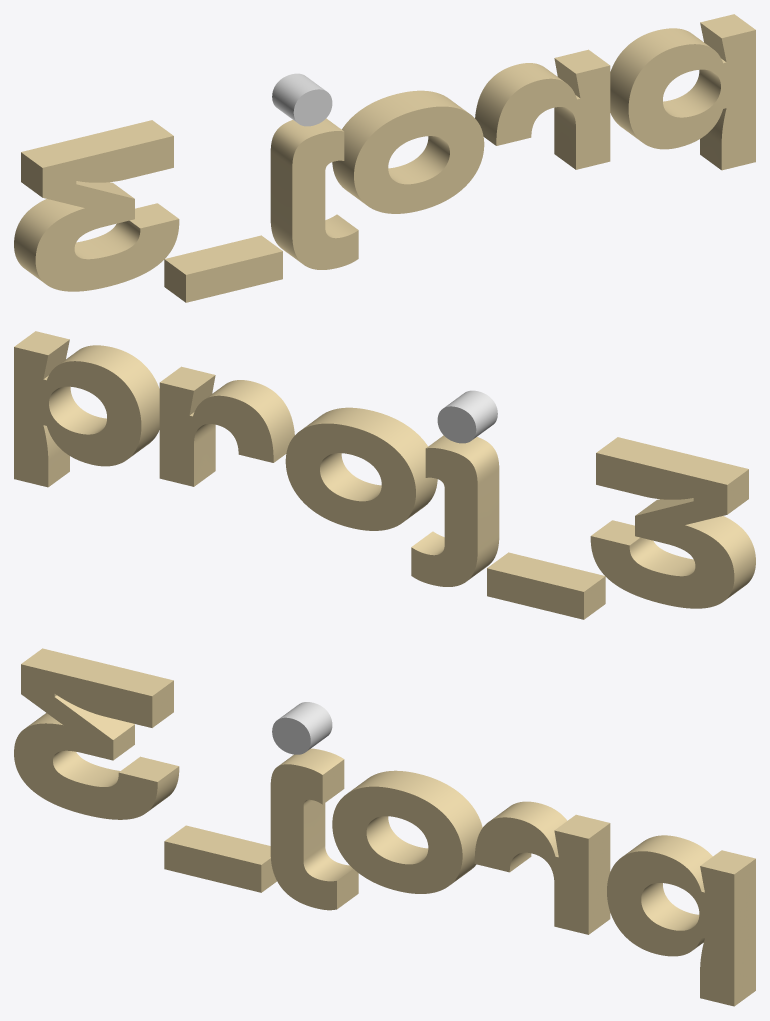
File: treasure.glb
The picture shows the model from 3 angles, top to bottom: view 1: azimuth 30°, elevation 25°; view 2: azimuth 150°, elevation 25°; view 3: azimuth 330°, elevation 25°; orthographic projection.
Visible parts, largest first — view 1: Mesh_6.002, Mesh_5.002, Mesh_2.002, Mesh_4.002, Mesh_3.002, Mesh_1.002, Mesh_0.002; view 2: Mesh_6.002, Mesh_5.002, Mesh_2.002, Mesh_4.002, Mesh_3.002, Mesh_1.002, Mesh_0.002; view 3: Mesh_6.002, Mesh_5.002, Mesh_2.002, Mesh_4.002, Mesh_3.002, Mesh_1.002, Mesh_0.002.
Part boxes in pixels (x1,y1,x2,y2): Mesh_6.002: (14,120,179,291); Mesh_5.002: (610,14,755,170); Mesh_2.002: (332,90,484,213); Mesh_4.002: (475,49,610,169); Mesh_3.002: (270,118,358,269); Mesh_1.002: (164,235,282,302); Mesh_0.002: (272,73,332,126); Mesh_6.002: (590,437,755,608); Mesh_5.002: (14,331,159,487); Mesh_2.002: (285,407,437,530); Mesh_4.002: (159,366,294,486); Mesh_3.002: (411,435,499,586); Mesh_1.002: (487,552,605,619); Mesh_0.002: (437,390,497,443); Mesh_6.002: (14,648,179,819); Mesh_5.002: (607,835,755,1006); Mesh_2.002: (332,770,482,893); Mesh_4.002: (474,801,610,934); Mesh_3.002: (270,748,358,910); Mesh_1.002: (164,825,276,892); Mesh_0.002: (272,702,332,754).
Size of what is drawn, in the model's own units: 3.75 by 0.9133 by 0.1949.
